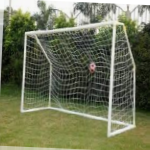goals: (19, 19, 137, 138)
